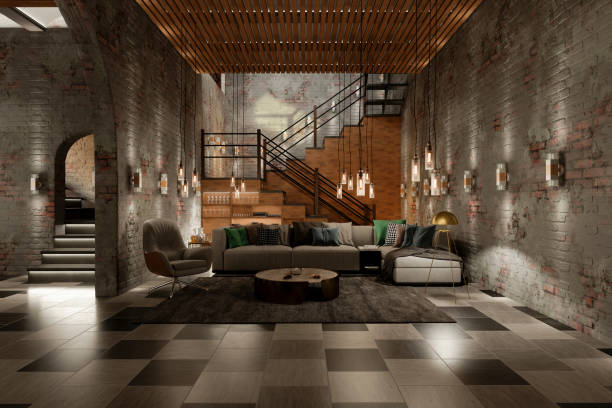chair: (141, 215, 213, 299)
floor lamp: (426, 208, 472, 306)
sofa: (211, 220, 464, 286)
table: (254, 264, 340, 308)
